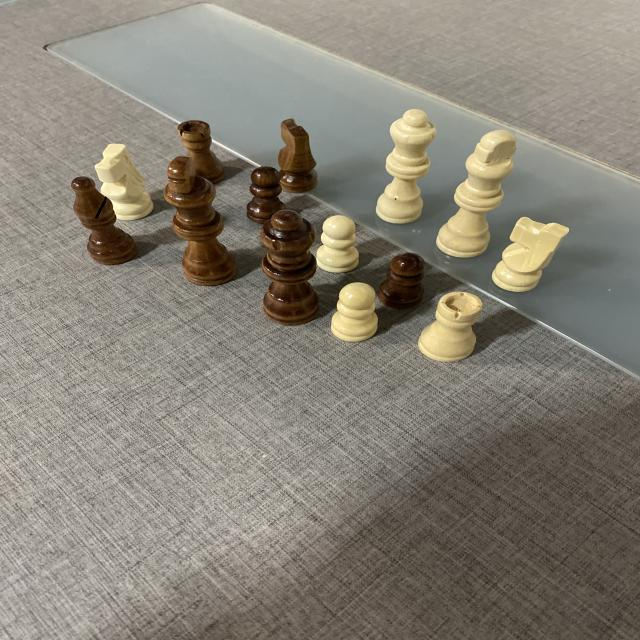Black-Bishop: (72, 176, 139, 266)
Black-King: (165, 156, 236, 286)
Black-Knight: (278, 118, 316, 194)
Black-Pawn: (378, 252, 426, 308), (247, 166, 287, 223)
Black-Queen: (264, 210, 320, 326)
Black-Rook: (178, 118, 226, 183)
White-King: (438, 130, 517, 256)
White-Knight: (491, 217, 568, 297), (95, 140, 154, 220)
White-Pawn: (331, 282, 379, 342), (316, 216, 359, 274)
White-Queen: (375, 109, 435, 224)
White-Rook: (416, 290, 483, 363)
